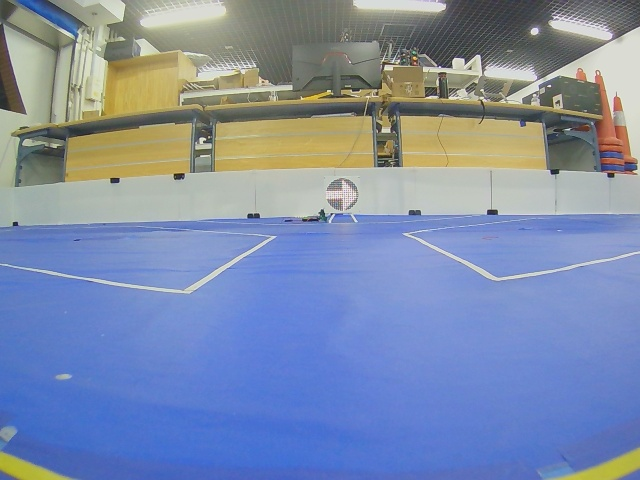right_yellow: (326, 178, 359, 212)
